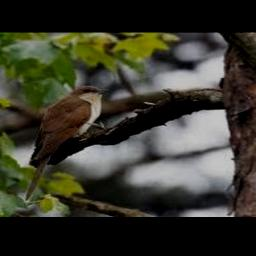Cuckoo: (25, 86, 108, 200)
